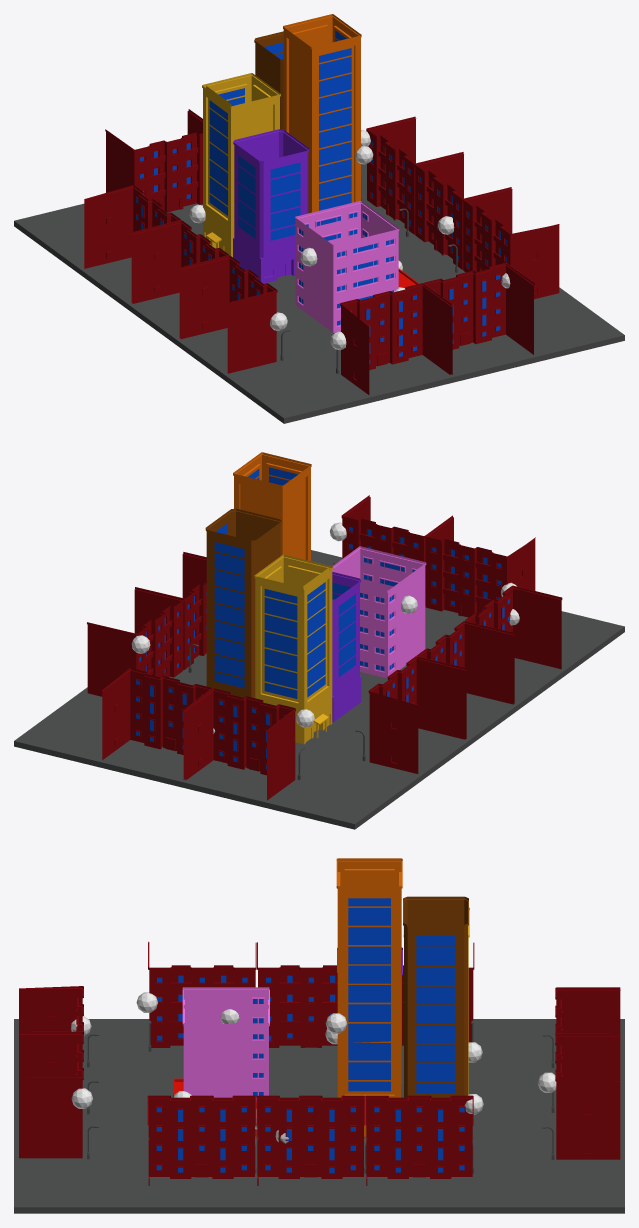
Rendered from levelantiguo.glb.
3 renders of one model, top to bottom at view 1: azimuth 30°, elevation 25°; view 2: azimuth 150°, elevation 25°; view 3: azimuth 270°, elevation 25°, orthographic. The views are drawn at different scales.
Parts seen in each view (by area): view 1: C_City; view 2: C_City; view 3: C_City.
Boxes of the visible parts, left/top/right/bottom form: C_City: left=14, top=14, right=624, bottom=423; C_City: left=14, top=452, right=624, bottom=829; C_City: left=14, top=858, right=624, bottom=1213.
Bounding box in the file's own units: 41.15 × 26.59 × 56.45.
